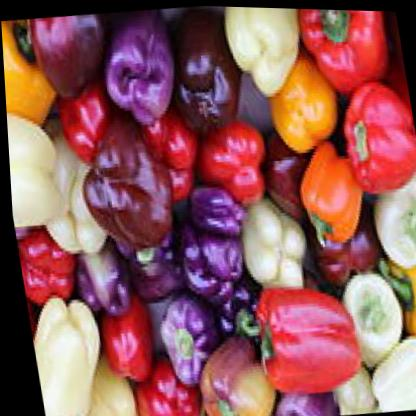bell_pepper: (222, 273, 371, 406), (327, 78, 416, 198), (298, 7, 401, 99), (291, 137, 369, 255)
